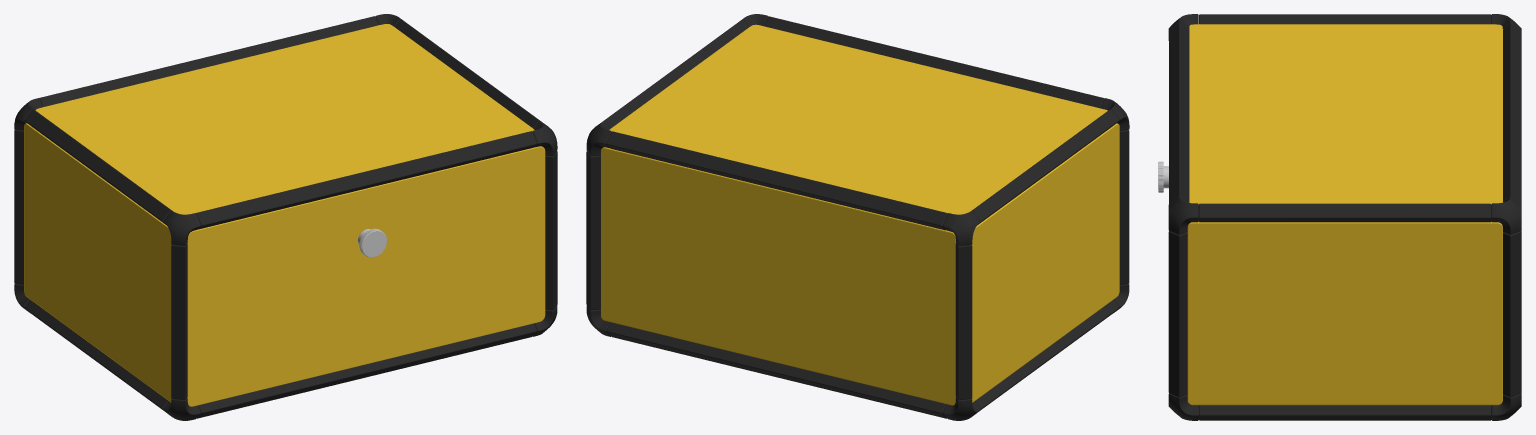
3 views of the same model, side by side, from view 1: azimuth 30°, elevation 25°; view 2: azimuth 150°, elevation 25°; view 3: azimuth 270°, elevation 25° (orthographic). The views are drawn at different scales.
Parts seen in each view (by area): view 1: 523x374x229; view 2: 523x374x229; view 3: 523x374x229.
Boxes of the visible parts, x1=… form: 523x374x229: x1=14, y1=14, x2=557, y2=420; 523x374x229: x1=586, y1=14, x2=1129, y2=420; 523x374x229: x1=1158, y1=14, x2=1521, y2=420.
Size of the model in its own units: 0.6007 by 0.3067 by 0.4646.
